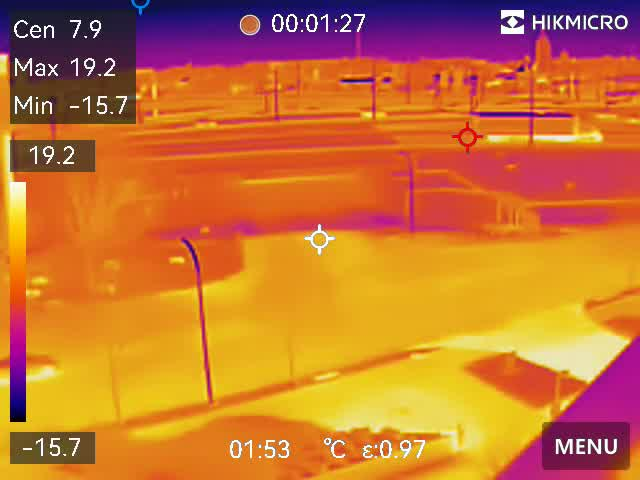heavyTruck: (469, 107, 604, 147)
vehicle: (1, 350, 62, 385), (192, 114, 220, 133), (356, 105, 387, 122)
